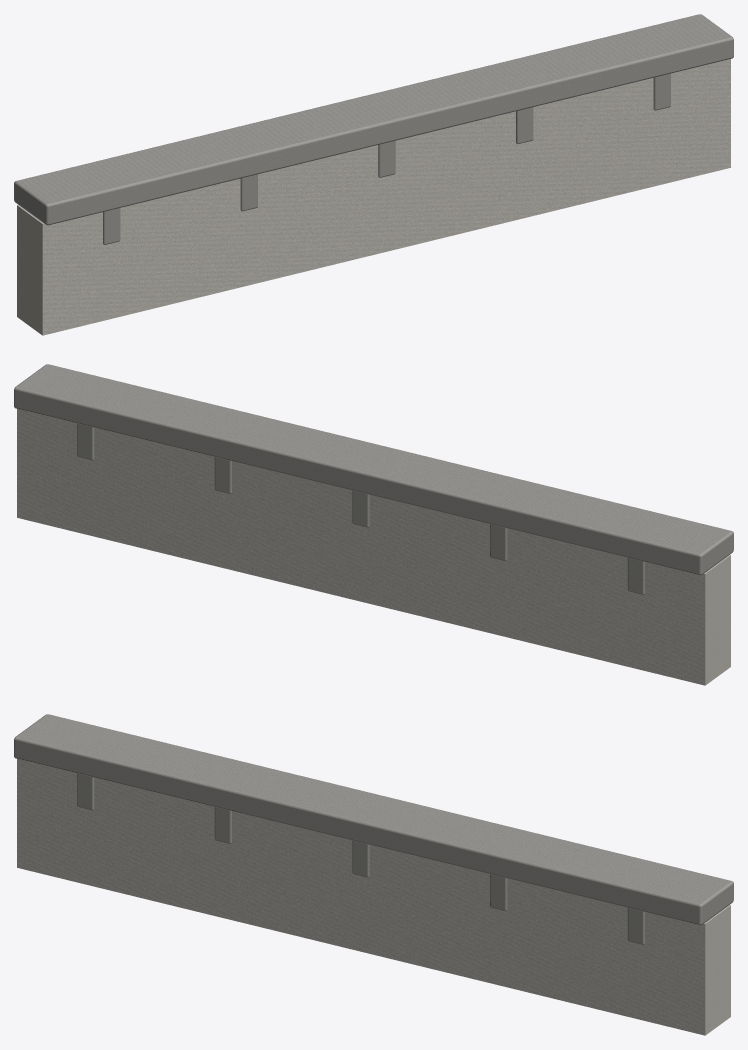
Rendered from tactical-shooter-hill-town-roof-parapet-197a1149__27520.glb.
The picture shows the model from 3 angles, top to bottom: view 1: azimuth 30°, elevation 25°; view 2: azimuth 150°, elevation 25°; view 3: azimuth 330°, elevation 25°; orthographic projection.
Visible parts, largest first — view 1: roof-parapet; view 2: roof-parapet; view 3: roof-parapet.
Boxes of the visible parts, <box> form: roof-parapet: <box>14,14,733,335</box>; roof-parapet: <box>14,364,733,685</box>; roof-parapet: <box>14,714,733,1035</box>.
Size of the model in its own units: 4 by 0.74 by 0.3399.
2 materials, 2 textured.
